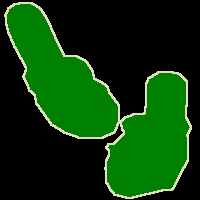shoe: (5, 2, 119, 138), (105, 71, 191, 198)
